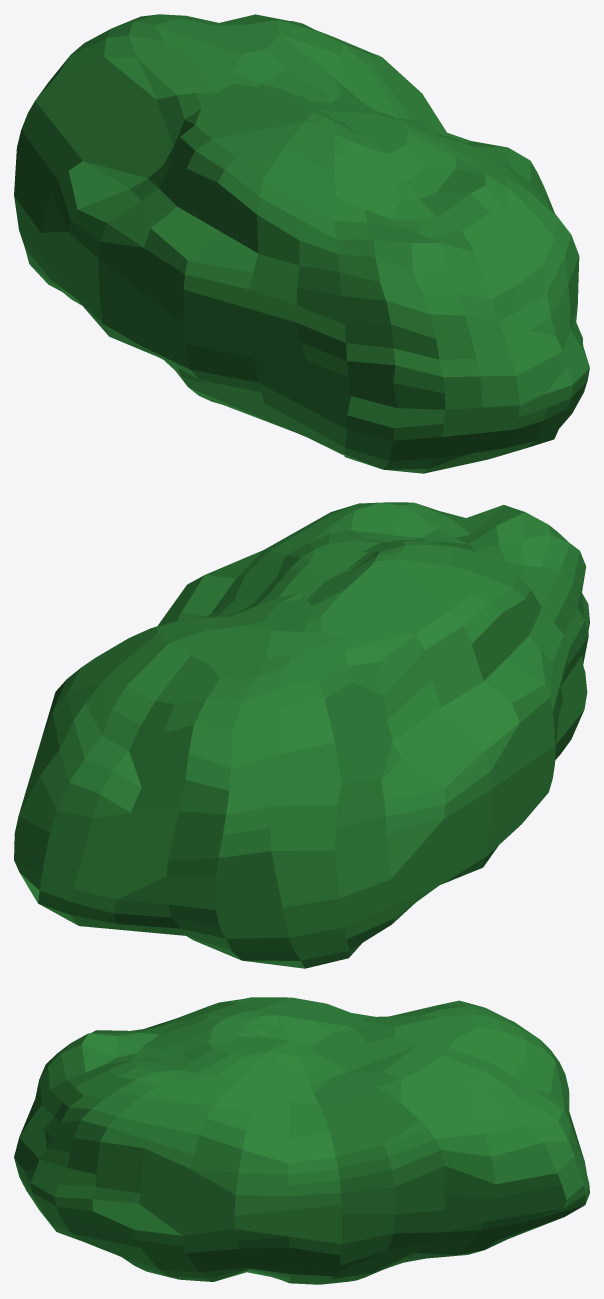
File: bush.fbx
3 renders of one model, top to bottom at view 1: azimuth 30°, elevation 25°; view 2: azimuth 150°, elevation 25°; view 3: azimuth 270°, elevation 25°, orthographic. The views are drawn at different scales.
Parts seen in each view (by area): view 1: Sphere; view 2: Sphere; view 3: Sphere.
Part boxes in pixels (x1,y1,x2,y2): Sphere: [14, 14, 589, 473]; Sphere: [14, 502, 589, 968]; Sphere: [14, 997, 589, 1284].
Bounding box in the file's own units: 298 × 226 × 517.
